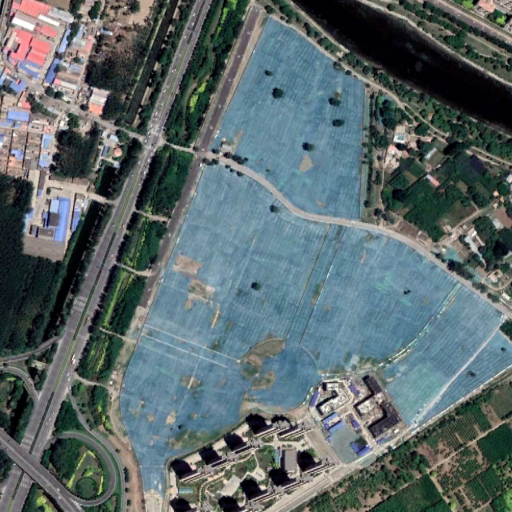cw: (121, 18, 512, 489)
